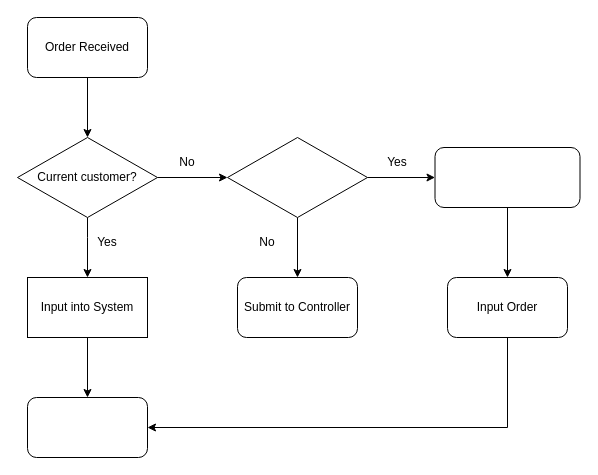
This 598x475 diagram has some shape labels left out. The shapes that lost their labels are listed below. From the top down, each one's centre as x and y in pixels, then its label:
At (297,177): "From Hogwards?".
At (507,177): "New Customer Process".
At (87,427): "Process Order".
